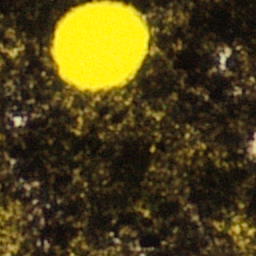air_pores: (50, 0, 151, 94)
cement_matrix: (0, 0, 255, 255), (17, 118, 21, 123), (222, 52, 226, 57)
gravel_crushed_stones: (250, 139, 255, 155), (18, 119, 20, 122), (223, 53, 225, 56)
